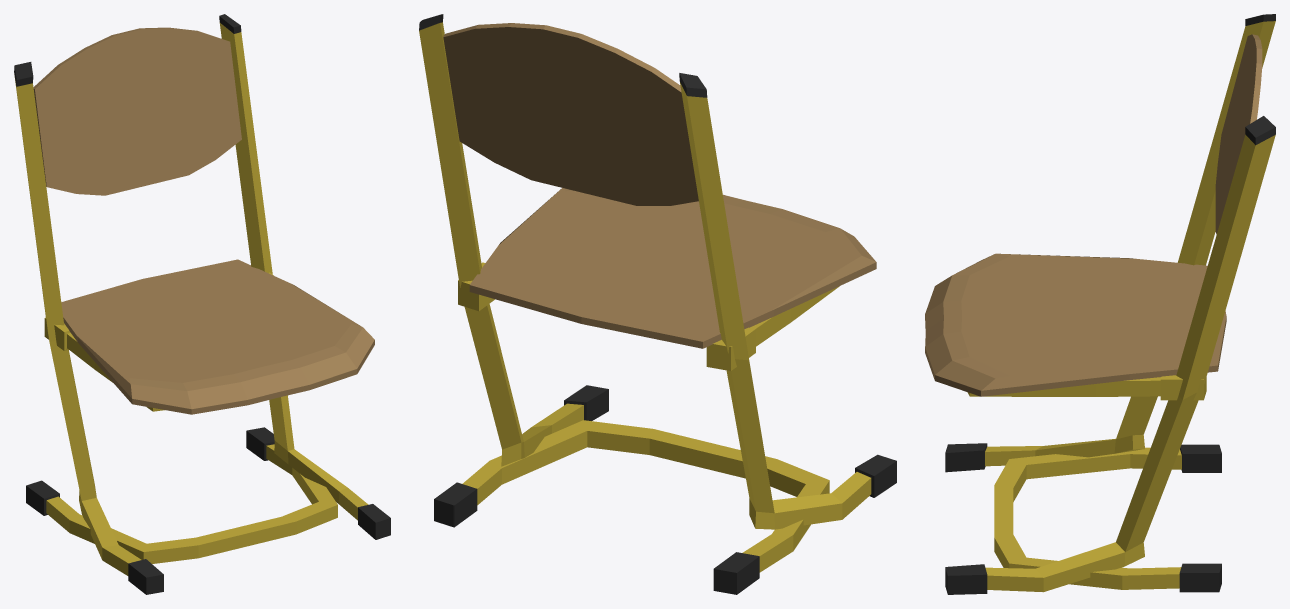
Rendered from stolicka_4.fbx.
3 renders of one model, left to right at view 1: azimuth 30°, elevation 25°; view 2: azimuth 150°, elevation 25°; view 3: azimuth 270°, elevation 25°, orthographic. The views are drawn at different scales.
Parts seen in each view (by area): view 1: stolicka_lavica.001; view 2: stolicka_lavica.001; view 3: stolicka_lavica.001.
Part boxes in pixels (x1,y1,x2,y2): stolicka_lavica.001: (14,14,390,594); stolicka_lavica.001: (419,14,896,594); stolicka_lavica.001: (925,14,1275,594).
Size of the model in its own units: 82.28 by 138 by 92.44.
